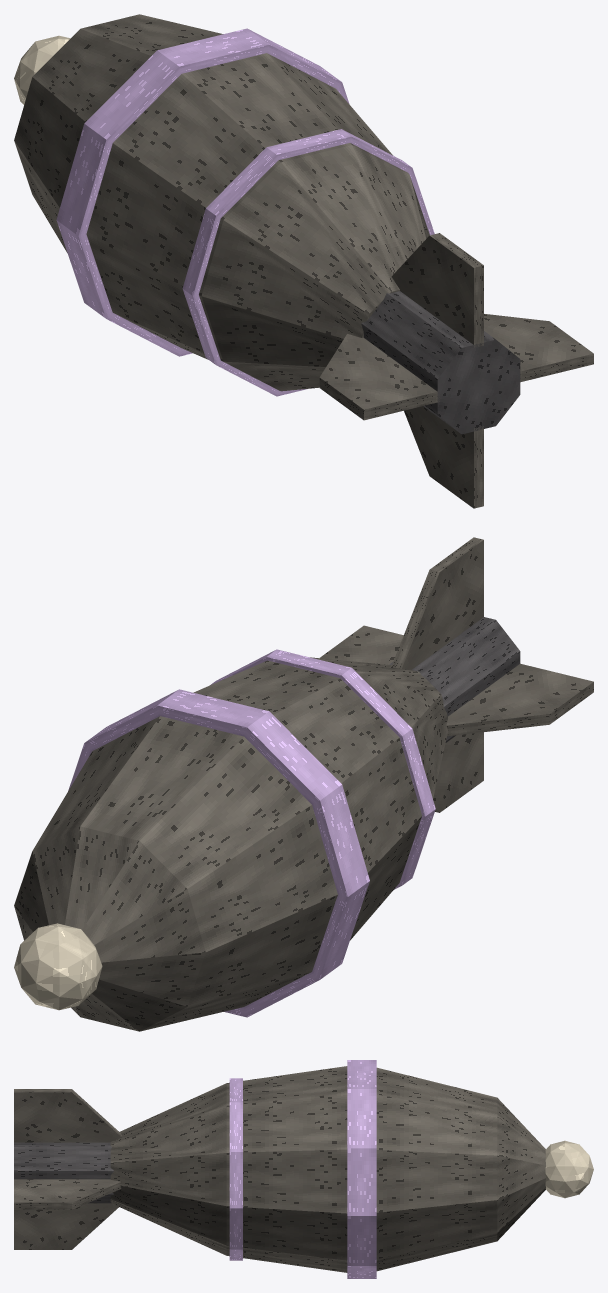
File: proj_mortar_shell.gltf
3 renders of one model, top to bottom at view 1: azimuth 30°, elevation 25°; view 2: azimuth 150°, elevation 25°; view 3: azimuth 270°, elevation 25°, orthographic. The views are drawn at different scales.
Visible parts, largest first — view 1: body, glow; view 2: body, glow; view 3: body, glow.
Boxes of the visible parts, x1,y1,x2,y2 form: body: [14, 14, 593, 508]; glow: [14, 28, 434, 396]; body: [14, 537, 593, 1031]; glow: [14, 649, 435, 1017]; body: [14, 1066, 545, 1272]; glow: [229, 1060, 593, 1278].
Bounding box in the file's own units: 0.228 × 0.2168 × 0.6.
2 materials, 2 textured.
